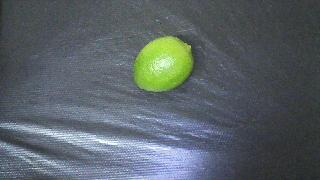LOCAL: (133, 36, 194, 92)
